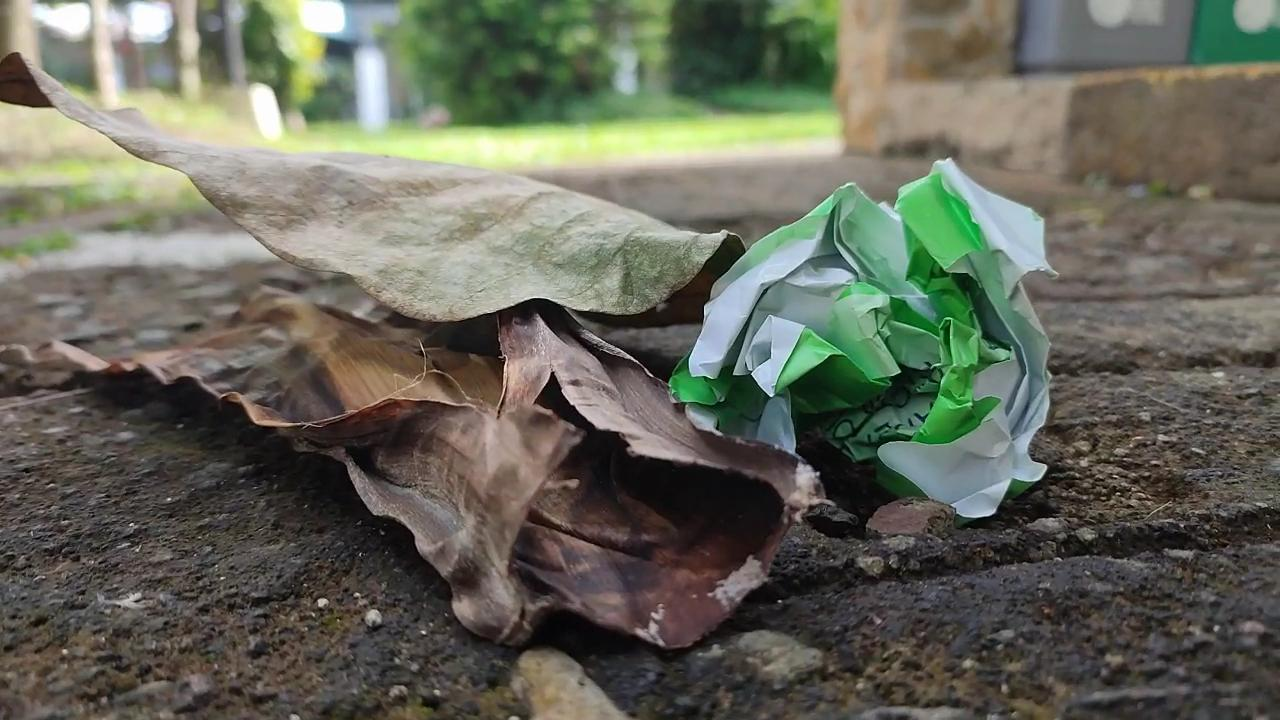Paper: (693, 158, 1062, 540)
